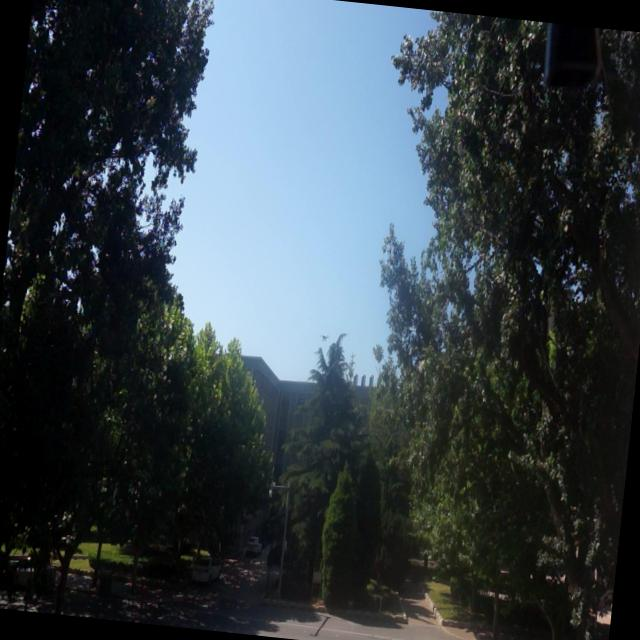drone: (316, 328, 331, 347)
